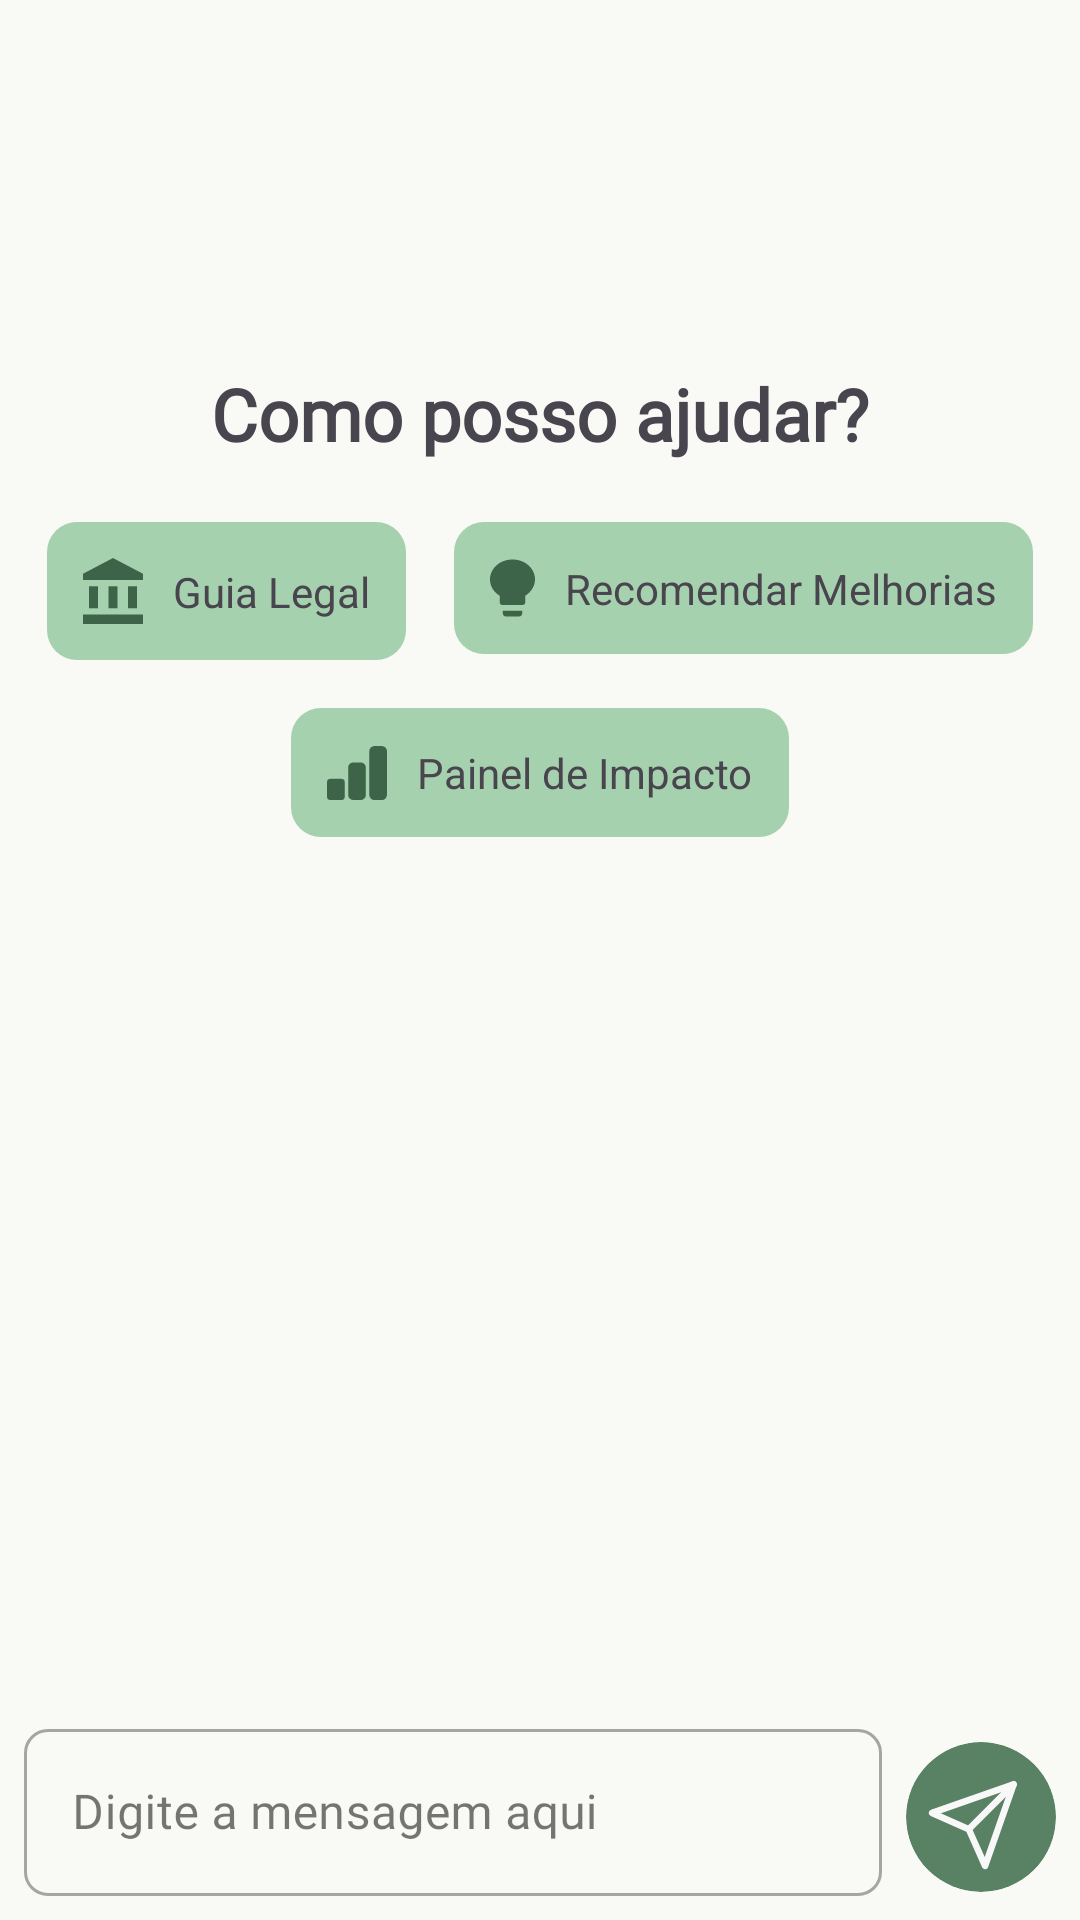

Named icons in this screenshot (1080*1920) and their centers, point (x, y):
send message: point (981, 1817)
